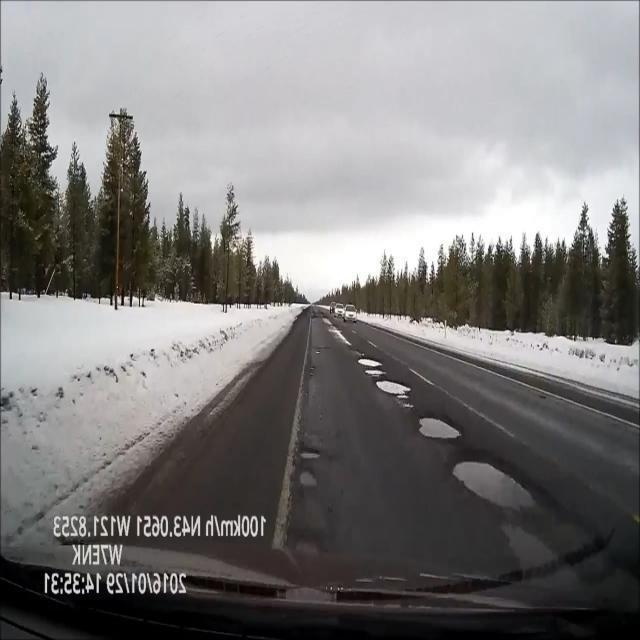pothole: (449, 454, 533, 519), (290, 433, 325, 500), (418, 407, 467, 440), (372, 378, 418, 396), (351, 352, 392, 365)
